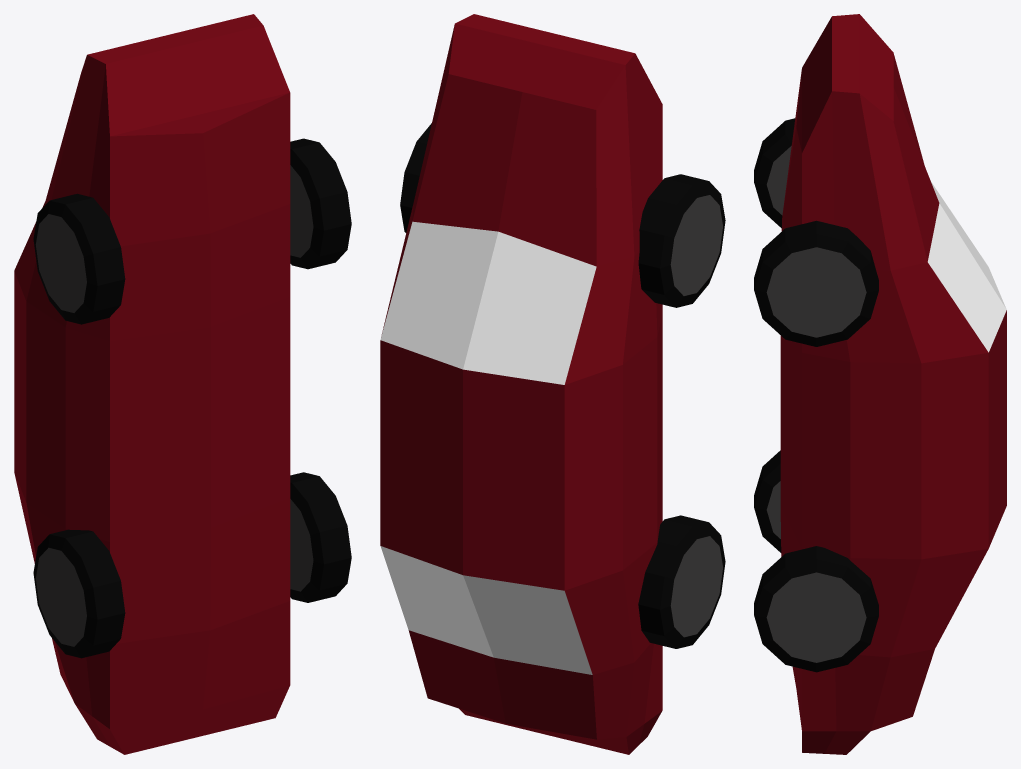
File: Low Poly Car.fbx
The picture shows the model from 3 angles, left to right: view 1: azimuth 30°, elevation 25°; view 2: azimuth 150°, elevation 25°; view 3: azimuth 270°, elevation 25°; orthographic projection. The views are drawn at different scales.
Parts seen in each view (by area): view 1: Low Poly Car; view 2: Low Poly Car; view 3: Low Poly Car.
Part boxes in pixels (bbox=[...]): Low Poly Car: bbox=[14, 14, 351, 754]; Low Poly Car: bbox=[380, 14, 725, 754]; Low Poly Car: bbox=[754, 14, 1006, 754].
Size of the model in its own units: 256 by 634 by 219.
